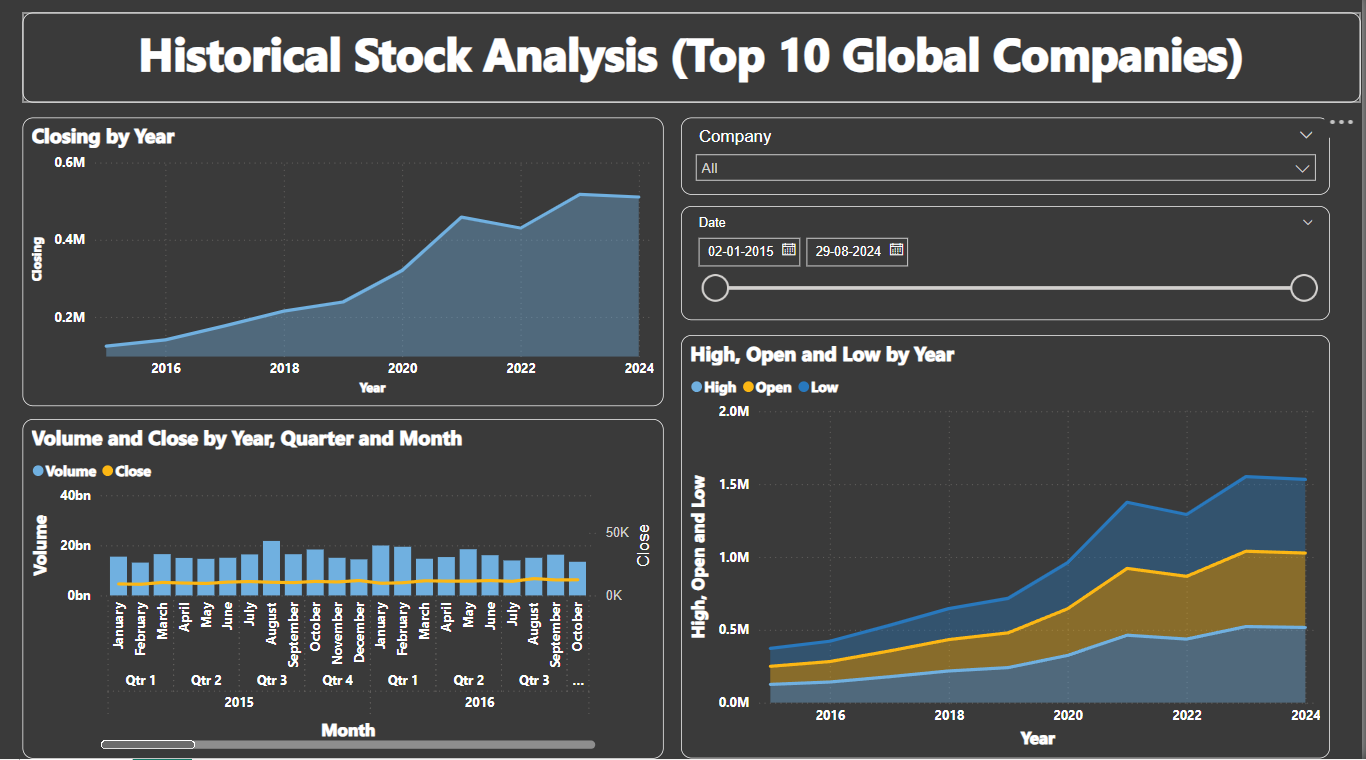

What the dashboard file says about the page in this screenshot:
{"tool":"powerbi","page":{"name":"Page 1","canvas":[1280,720],"ordinal":0},"visuals":[{"type":"areaChart","fields":{"Category":["top_10_stock_data.Date.Variation.Date Hierarchy.Year","top_10_stock_data.Date.Variation.Date Hierarchy.Quarter","top_10_stock_data.Date.Variation.Date Hierarchy.Month","top_10_stock_data.Date.Variation.Date Hierarchy.Day"],"Y":["Sum(top_10_stock_data.Close)"]},"box":[21.2,116.6,602.7,271],"z":0},{"type":"slicer","fields":{"Values":["top_10_stock_data.Ticker"]},"box":[640.5,116.6,610.2,72.7],"z":1},{"type":"lineStackedColumnComboChart","fields":{"Category":["top_10_stock_data.Date.Variation.Date Hierarchy.Year","top_10_stock_data.Date.Variation.Date Hierarchy.Quarter","top_10_stock_data.Date.Variation.Date Hierarchy.Month"],"Y":["Sum(top_10_stock_data.Volume)"],"Y2":["Sum(top_10_stock_data.Close)"]},"box":[21.2,399.8,602.7,319.5],"z":2},{"type":"stackedAreaChart","fields":{"Category":["top_10_stock_data.Date.Variation.Date Hierarchy.Year","top_10_stock_data.Date.Variation.Date Hierarchy.Quarter","top_10_stock_data.Date.Variation.Date Hierarchy.Month","top_10_stock_data.Date.Variation.Date Hierarchy.Day"],"Y":["Sum(top_10_stock_data.High)","Sum(top_10_stock_data.Open)","Sum(top_10_stock_data.Low)"]},"box":[640.5,321,610.2,398.2],"z":3},{"type":"textbox","box":[21.2,18.2,1258.3,84.8],"z":4},{"type":"slicer","fields":{"Values":["top_10_stock_data.Date"]},"box":[640.5,199.9,610.2,107.5],"z":5}]}

Visuals, with their boxes in screenshot pixels (x1, y1, x2, y2), scaled from the page's 1280x720 canvas onto the 1366x760 screenshot:
areaChart - top_10_stock_data.Date.Variation.Date Hierarchy.Year x top_10_stock_data.Date.Variation.Date Hierarchy.Quarter: rect(23, 123, 666, 409)
slicer - top_10_stock_data.Ticker: rect(684, 123, 1335, 200)
lineStackedColumnComboChart - top_10_stock_data.Date.Variation.Date Hierarchy.Year x top_10_stock_data.Date.Variation.Date Hierarchy.Quarter: rect(23, 422, 666, 759)
stackedAreaChart - top_10_stock_data.Date.Variation.Date Hierarchy.Year x top_10_stock_data.Date.Variation.Date Hierarchy.Quarter: rect(684, 339, 1335, 759)
textbox: rect(23, 19, 1365, 109)
slicer - top_10_stock_data.Date: rect(684, 211, 1335, 324)
